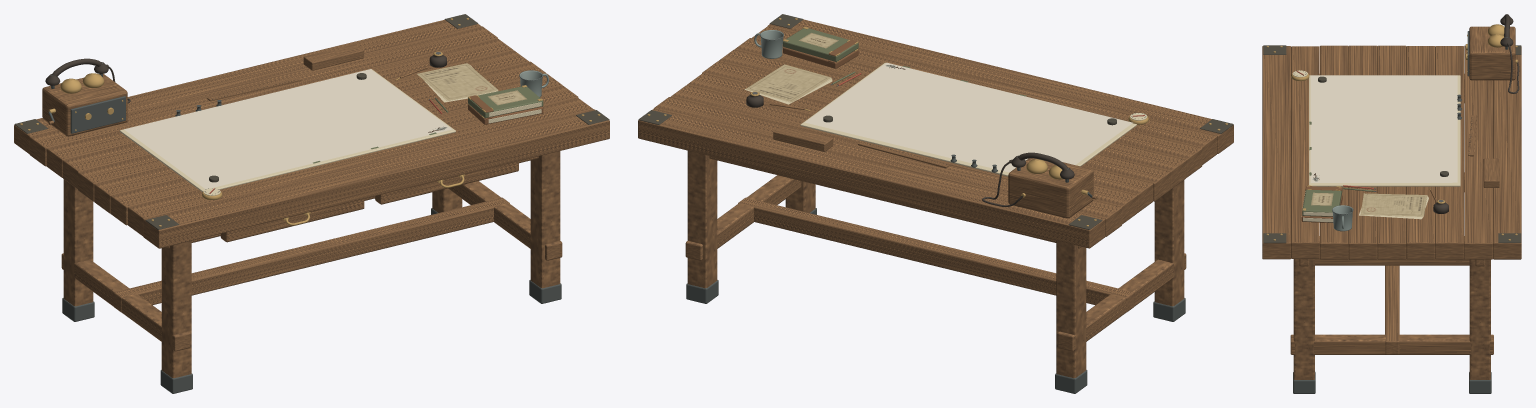
Rendered from CommandTable.fbx.
3 renders of one model, left to right at view 1: azimuth 30°, elevation 25°; view 2: azimuth 150°, elevation 25°; view 3: azimuth 270°, elevation 25°, orthographic. The views are drawn at different scales.
Parts seen in each view (by area): view 1: HQ_QuarterSawn, HQ_DarkWalnut, HQ_Map, HQ_Steel, HQ_Paper, HQ_Dispatch, HQ_Oxide, HQ_Brass, HQ_Canvas, HQ_Bakelite, HQ_Leather; view 2: HQ_QuarterSawn, HQ_DarkWalnut, HQ_Map, HQ_Steel, HQ_Paper, HQ_Dispatch, HQ_Oxide, HQ_Canvas, HQ_Bakelite, HQ_Brass, HQ_Leather, HQ_Enamel; view 3: HQ_QuarterSawn, HQ_Map, HQ_DarkWalnut, HQ_Paper, HQ_Dispatch, HQ_Steel, HQ_Oxide, HQ_Canvas, HQ_Bakelite, HQ_Brass, HQ_Enamel, HQ_Leather (+1 smaller).
Boxes of the visible parts, box(x1,y1,x2,y2) form: HQ_QuarterSawn: box(14, 19, 609, 351); HQ_DarkWalnut: box(42, 44, 560, 378); HQ_Map: box(124, 69, 452, 189); HQ_Steel: box(48, 62, 561, 393); HQ_Paper: box(119, 64, 541, 195); HQ_Dispatch: box(417, 63, 498, 101); HQ_Oxide: box(14, 14, 609, 230); HQ_Brass: box(20, 18, 600, 226); HQ_Canvas: box(313, 86, 543, 163); HQ_Bakelite: box(45, 55, 446, 135); HQ_Leather: box(468, 95, 543, 124); HQ_QuarterSawn: box(638, 19, 1233, 351); HQ_DarkWalnut: box(687, 103, 1184, 378); HQ_Map: box(805, 62, 1132, 172); HQ_Steel: box(686, 30, 1185, 393); HQ_Paper: box(745, 62, 1147, 176); HQ_Dispatch: box(746, 64, 831, 102); HQ_Oxide: box(638, 14, 1233, 229); HQ_Canvas: box(783, 28, 1026, 96); HQ_Bakelite: box(746, 95, 1074, 217); HQ_Brass: box(647, 18, 1227, 226); HQ_Leather: box(783, 39, 858, 68); HQ_Enamel: box(754, 30, 783, 58); HQ_QuarterSawn: box(1262, 45, 1521, 354); HQ_Map: box(1310, 75, 1457, 182); HQ_DarkWalnut: box(1293, 26, 1515, 379); HQ_Paper: box(1292, 70, 1460, 222); HQ_Dispatch: box(1360, 193, 1427, 216); HQ_Steel: box(1293, 31, 1508, 393); HQ_Oxide: box(1263, 45, 1521, 243); HQ_Canvas: box(1302, 121, 1373, 216); HQ_Bakelite: box(1433, 14, 1519, 213); HQ_Brass: box(1266, 24, 1517, 240); HQ_Enamel: box(1332, 205, 1352, 231); HQ_Leather: box(1301, 186, 1342, 222).
Bounding box in the file's own units: 2.88 × 1.46 × 1.59.
